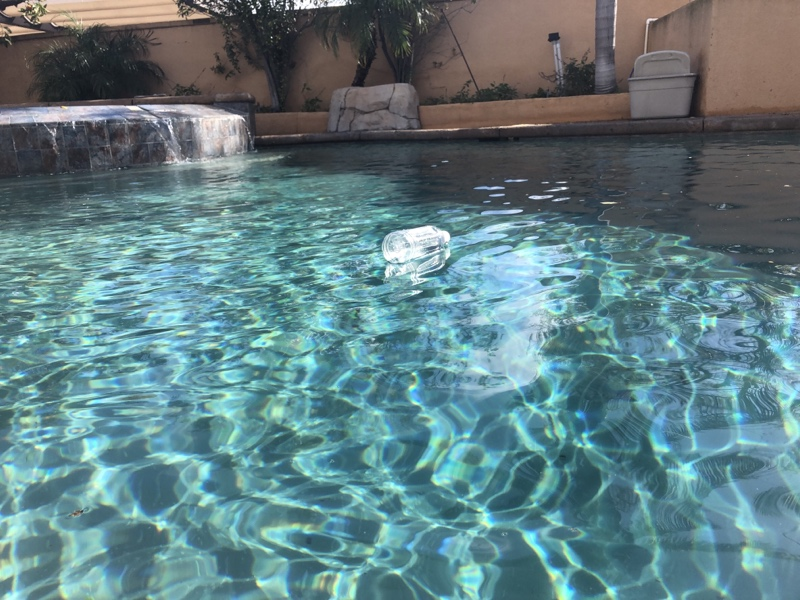Plastic Bottle: (378, 225, 456, 267)
